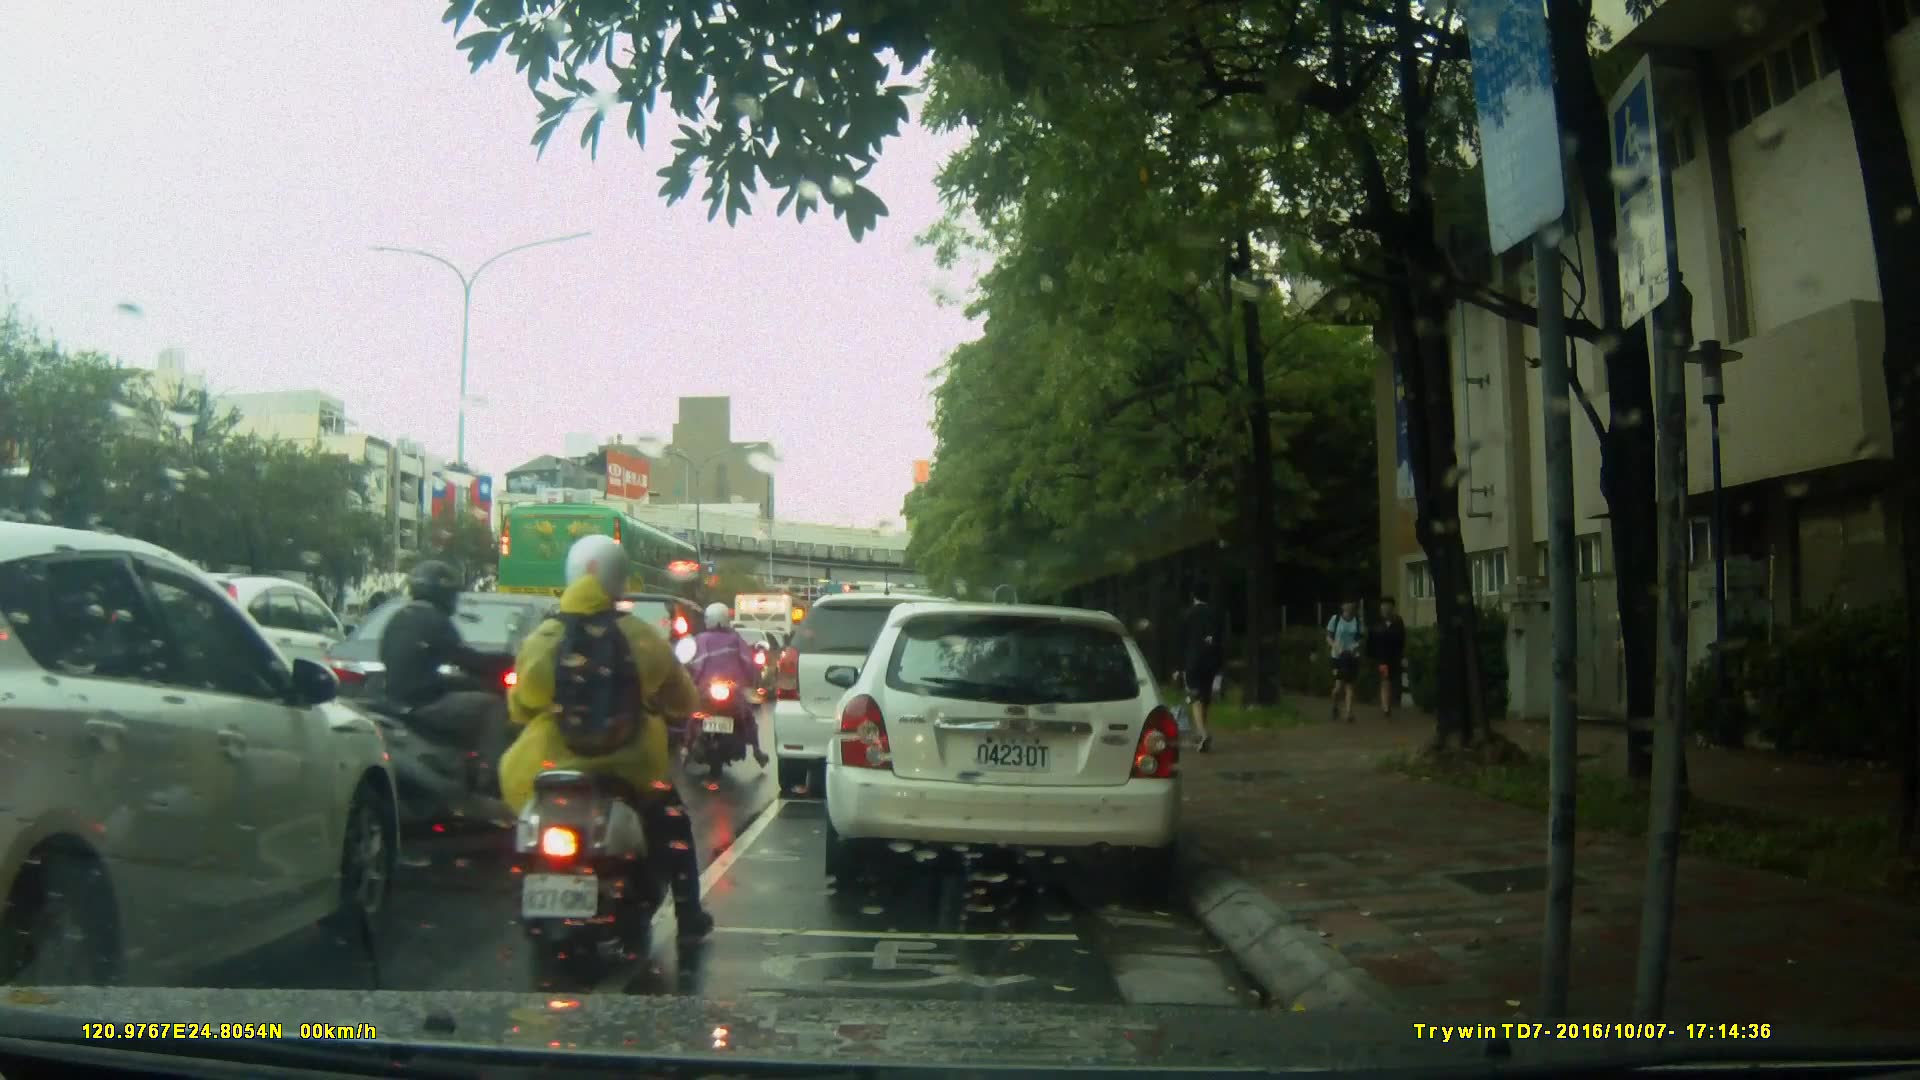pedestrian: (1170, 578, 1232, 756), (1323, 587, 1377, 730), (1363, 589, 1403, 726)
rider: (487, 532, 714, 970), (341, 568, 566, 859), (681, 596, 774, 777)
vehicle: (1, 519, 406, 985), (831, 592, 1196, 897), (303, 592, 657, 806), (770, 592, 999, 800), (494, 502, 708, 641)
